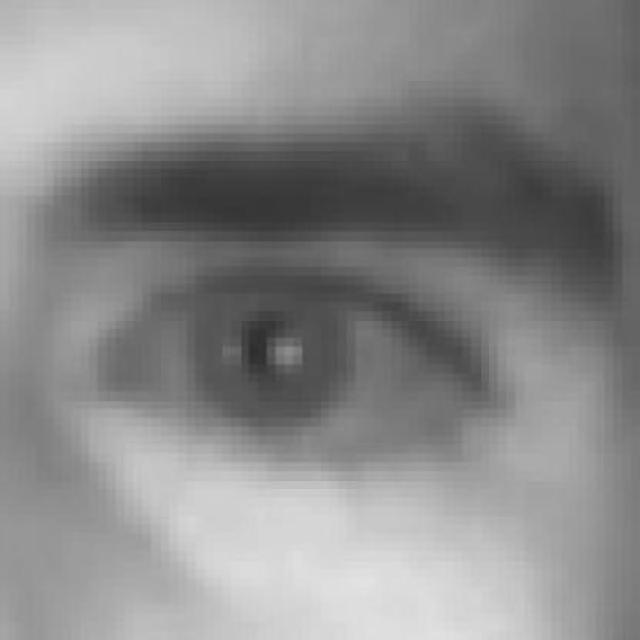awake: (94, 263, 498, 472)
